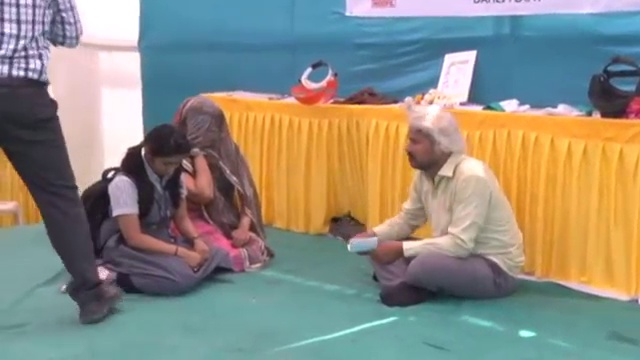helmet_off: (399, 106, 459, 175), (135, 120, 192, 185), (174, 99, 232, 159)
person: (349, 103, 540, 314), (0, 0, 117, 328), (82, 116, 224, 298), (175, 94, 273, 275)
